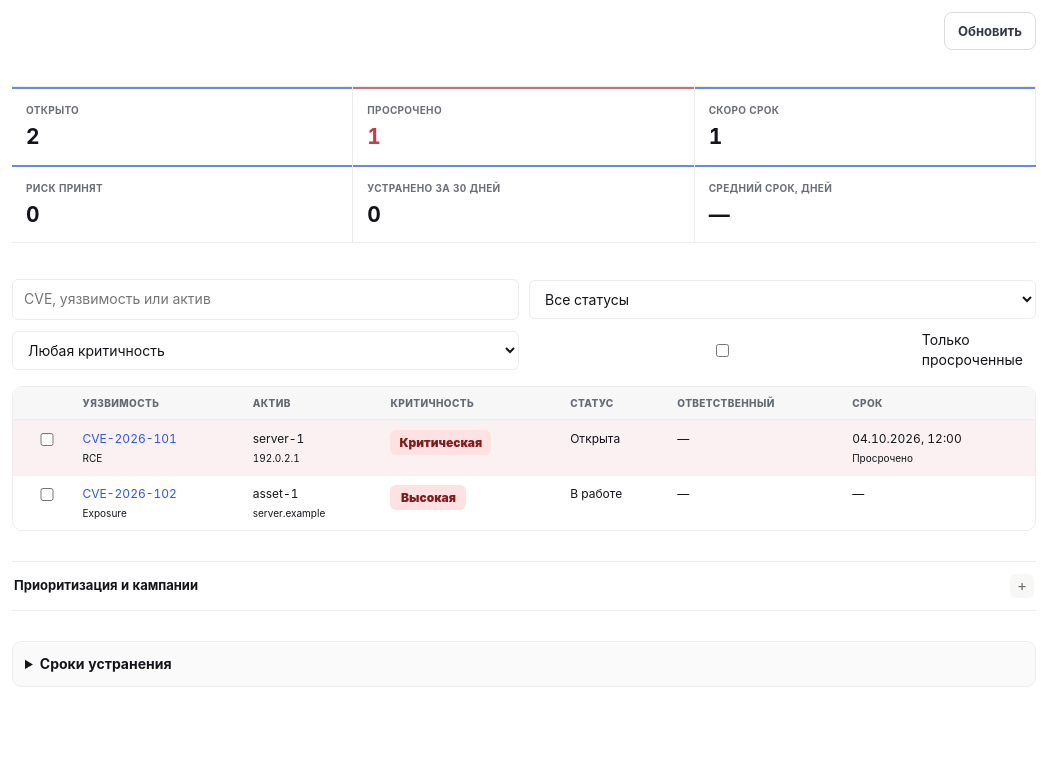
Test: remediation workflows › bulk updates only checked cases and clears the selection after success
Expected: the button "CVE-2026-101" is shown, [82,430,177,447]
Expected: the button "Взять в работу" is not shown
Click the checkbox named "Выбрать RCE" at (47, 439), box [27,433,66,446]
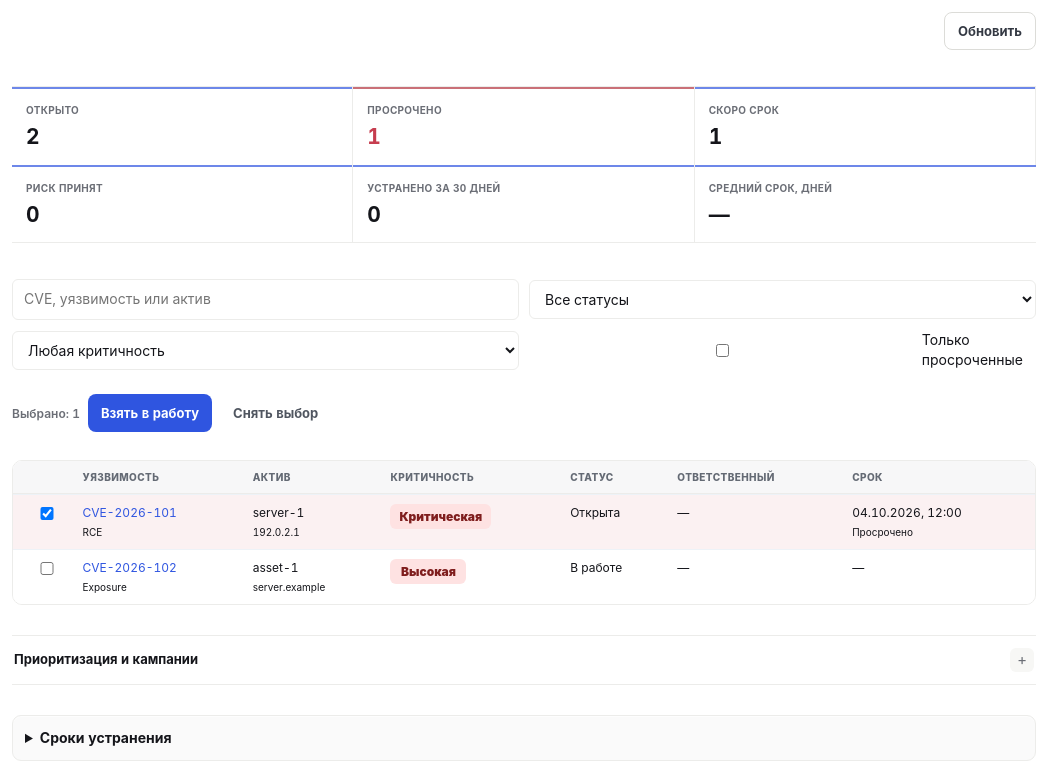
Click the checkbox named "Выбрать Exposure" at (47, 568), box [27,562,66,575]
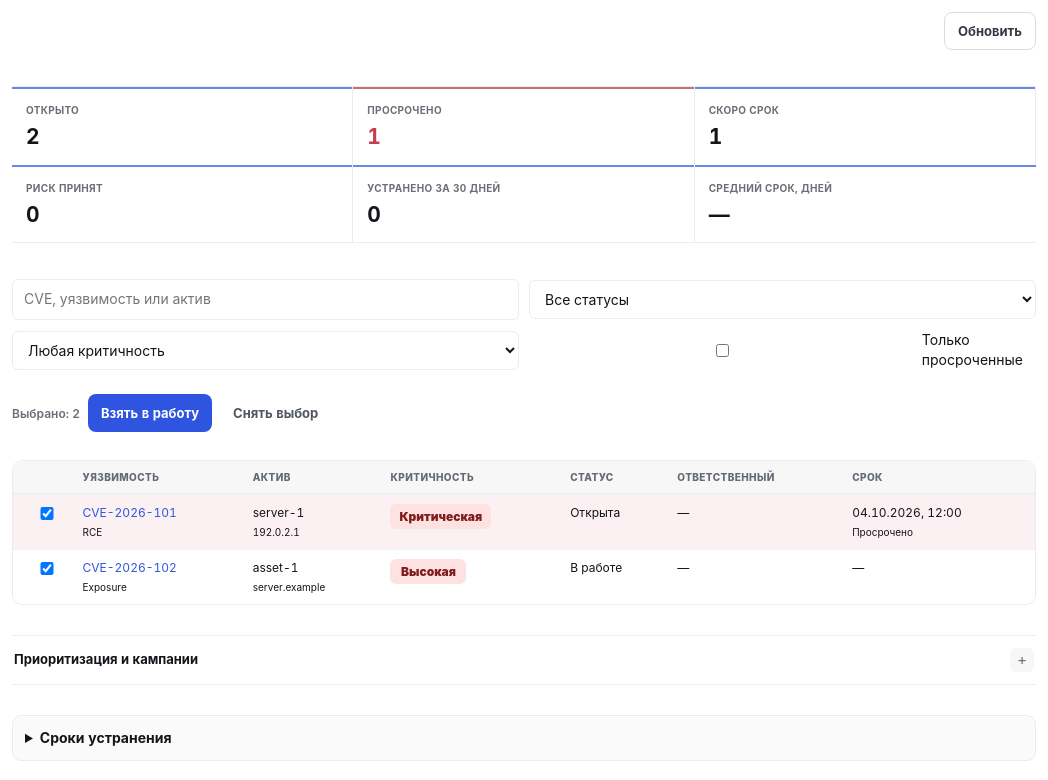
Click the checkbox named "Выбрать Exposure" at (47, 568), box [27,562,66,575]
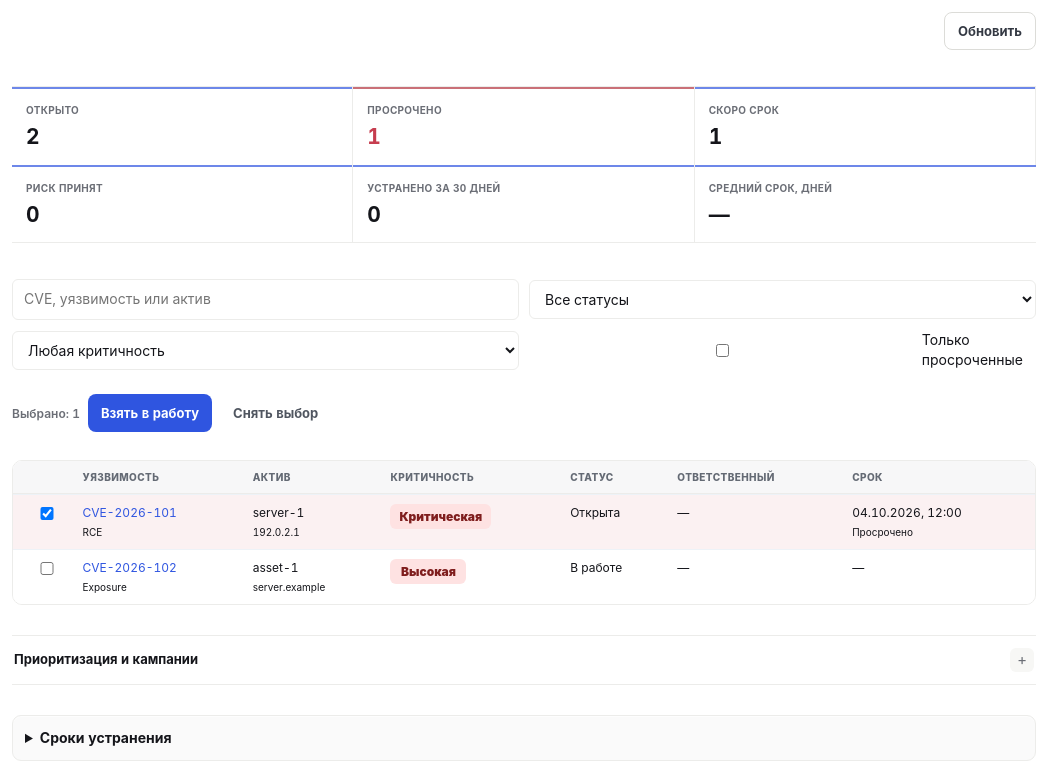
Result: the text "Выбрано: 1" is shown at [12,405,80,422]
Click the button "Взять в работу" at (150, 413), box [88,394,212,432]
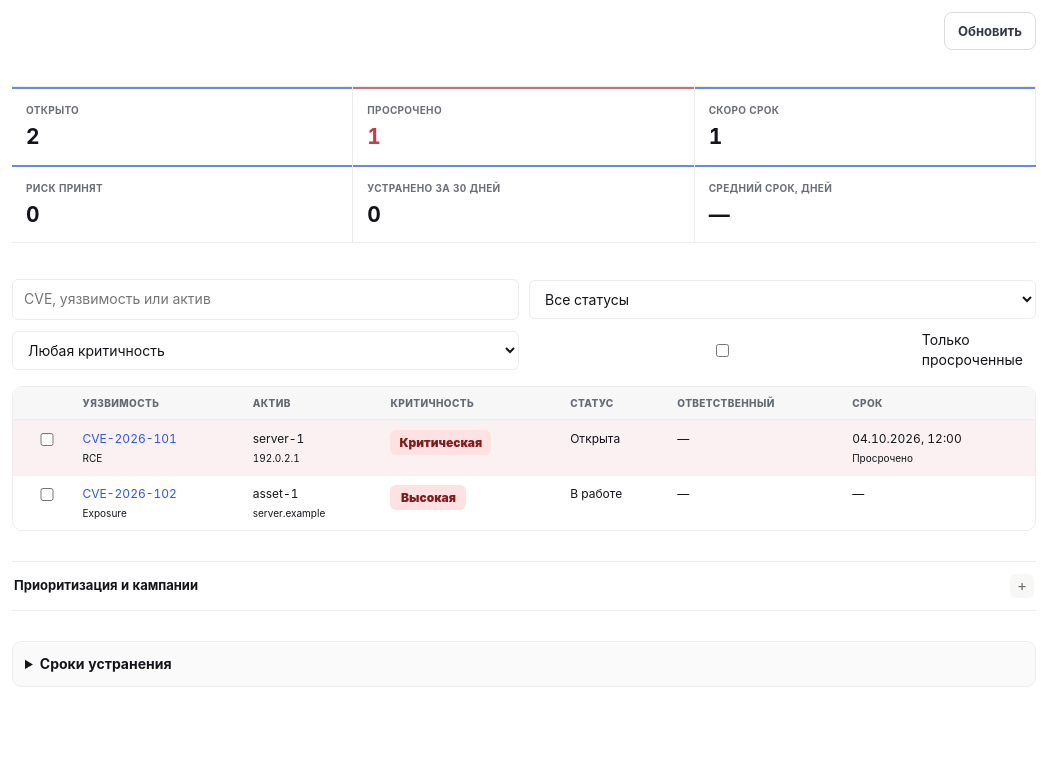
Result: the button "Взять в работу" is gone
